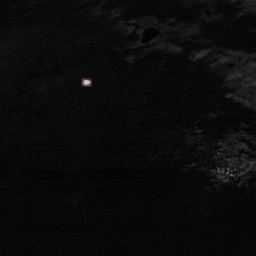Target: (82, 79, 90, 86)
